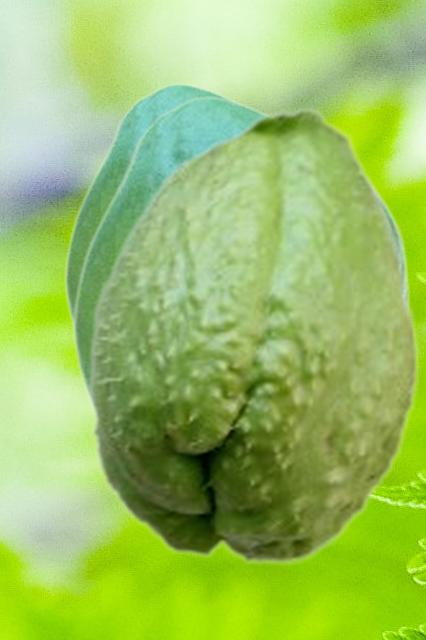sayote: (87, 104, 421, 566), (71, 96, 409, 408), (63, 83, 260, 329)
